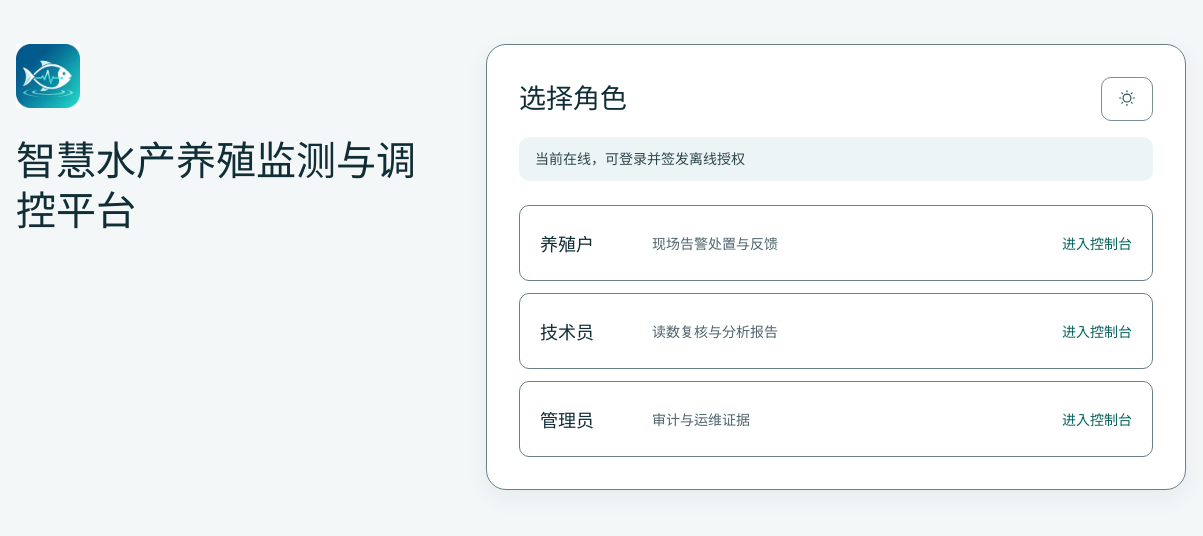
Test: Aquaculture application shell › shows login error when authentication fails
Click the button with test id "login-technician" at [567, 332], box [519, 293, 1153, 369]
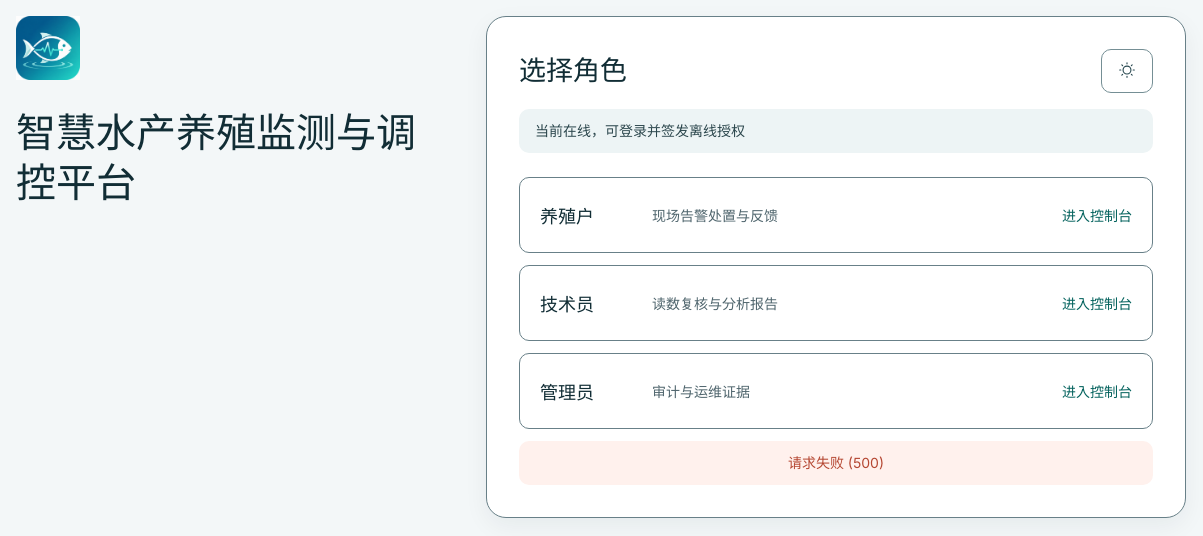
Result: the text "请求失败" is shown at [788, 455, 884, 472]
Result: the message "请求失败 (500)" is shown at [519, 441, 1153, 485]
